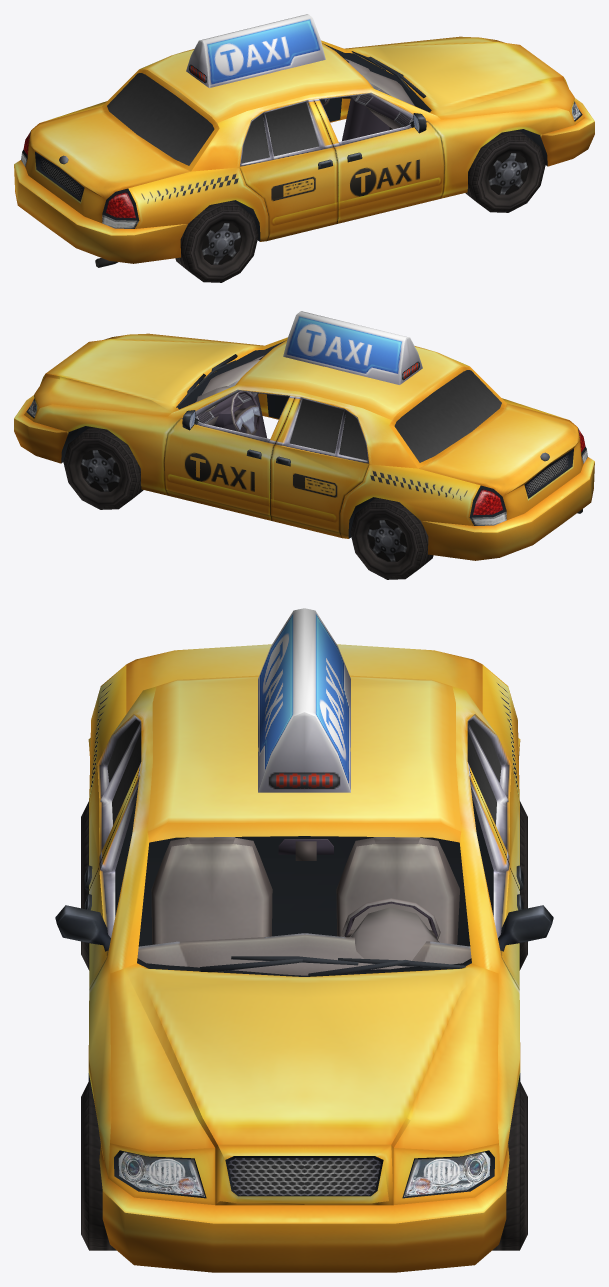
File: JianKongJieDao_01_chuzuche_01.FBX
3 views of the same model, one above another, from view 1: azimuth 30°, elevation 25°; view 2: azimuth 150°, elevation 25°; view 3: azimuth 270°, elevation 25° (orthographic). The views are drawn at different scales.
Parts seen in each view (by area): view 1: JianKongJieDao_01_chuzuche_01; view 2: JianKongJieDao_01_chuzuche_01; view 3: JianKongJieDao_01_chuzuche_01.
Boxes of the visible parts, x1,y1,x2,y2 form: JianKongJieDao_01_chuzuche_01: (14, 14, 594, 282); JianKongJieDao_01_chuzuche_01: (14, 311, 594, 579); JianKongJieDao_01_chuzuche_01: (55, 608, 553, 1272).
Size of the model in its own units: 1150 by 416 by 484.
